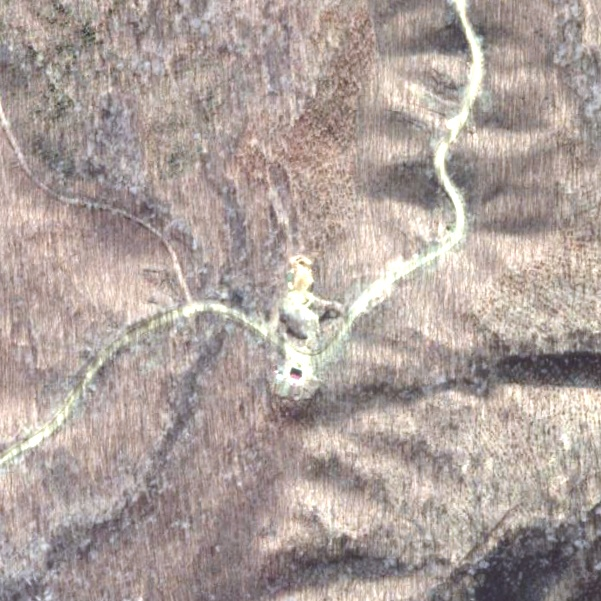slope: (261, 247, 346, 410)
